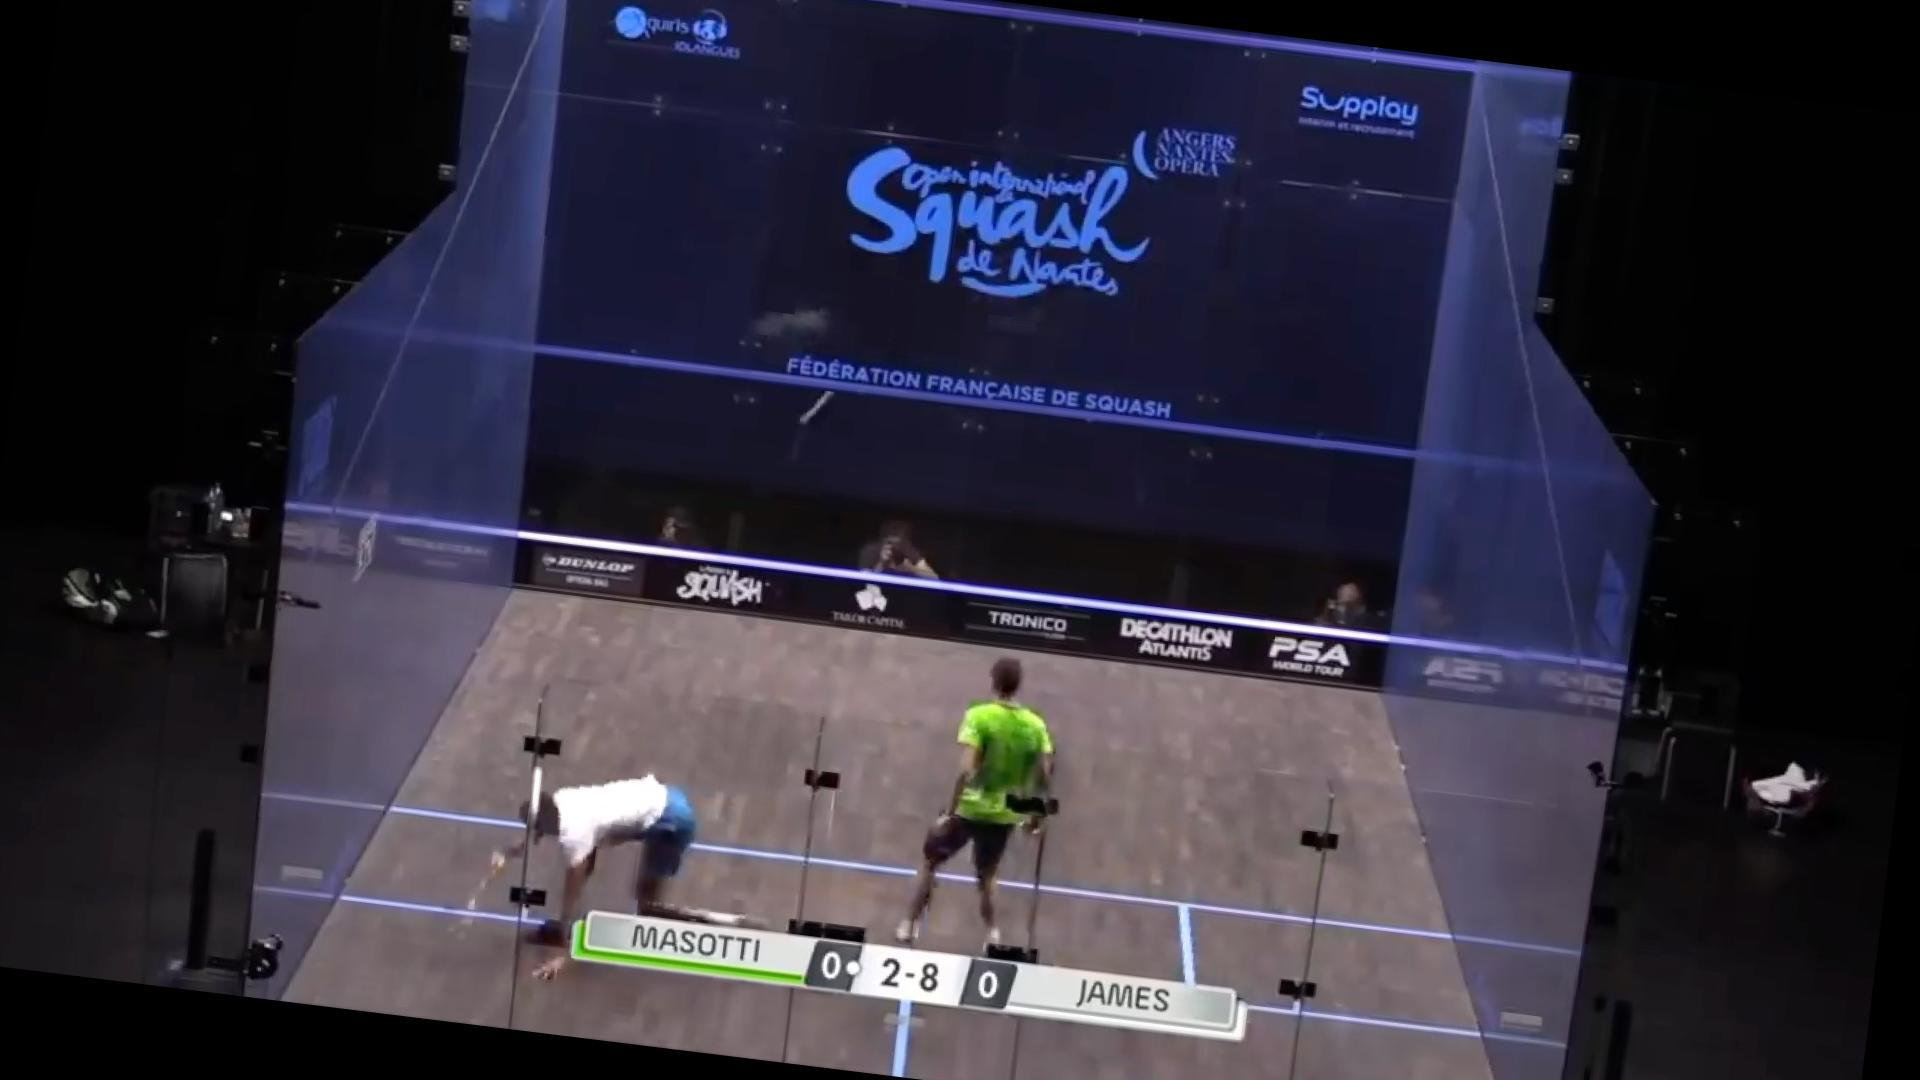Squash-Ball: (774, 364, 844, 439)
